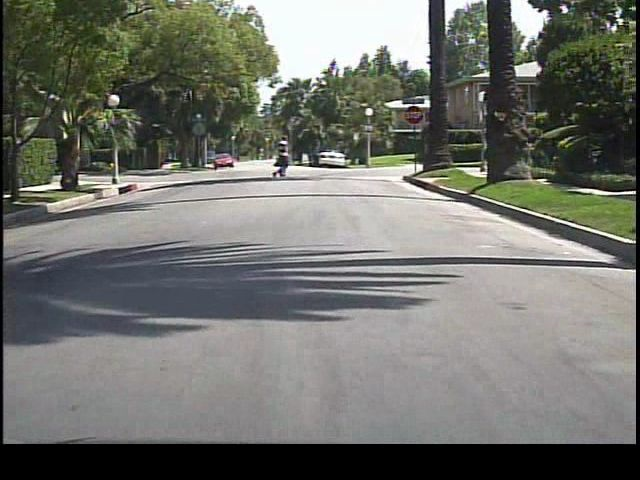person: (273, 135, 292, 178)
